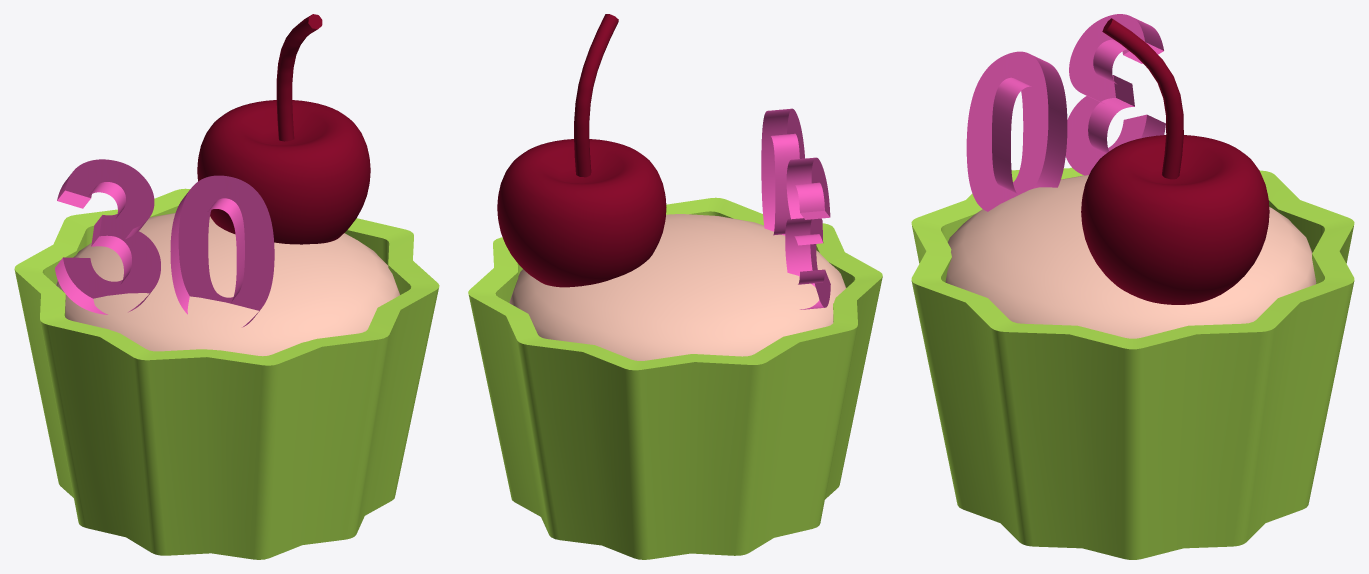
The model's file is cake11.glb.
3 renders of one model, left to right at view 1: azimuth 30°, elevation 25°; view 2: azimuth 150°, elevation 25°; view 3: azimuth 270°, elevation 25°, orthographic. The views are drawn at different scales.
Size of the model in its own units: 0.3144 by 0.3772 by 0.3003.
